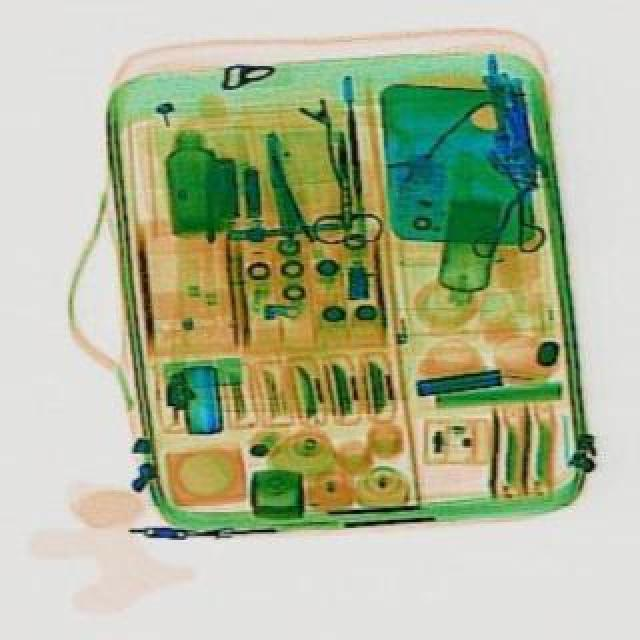pliers: (302, 128, 382, 244)
